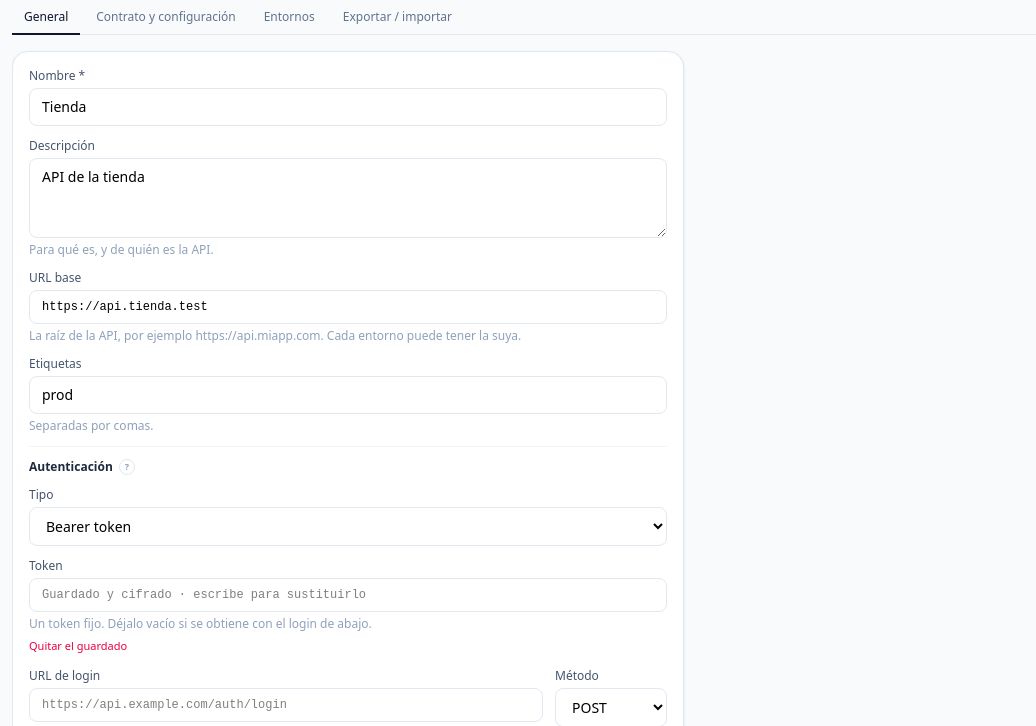
Scenario: ProjectGeneralPage › una autenticación incompleta no deja guardar
Check: the field showing "Tienda" is shown, box x1=29 y1=88 x2=667 y2=126
Select "API key" in the dropdown labelled "Tipo" at (348, 526), box x1=29 y1=507 x2=667 y2=546
(page scrolled)
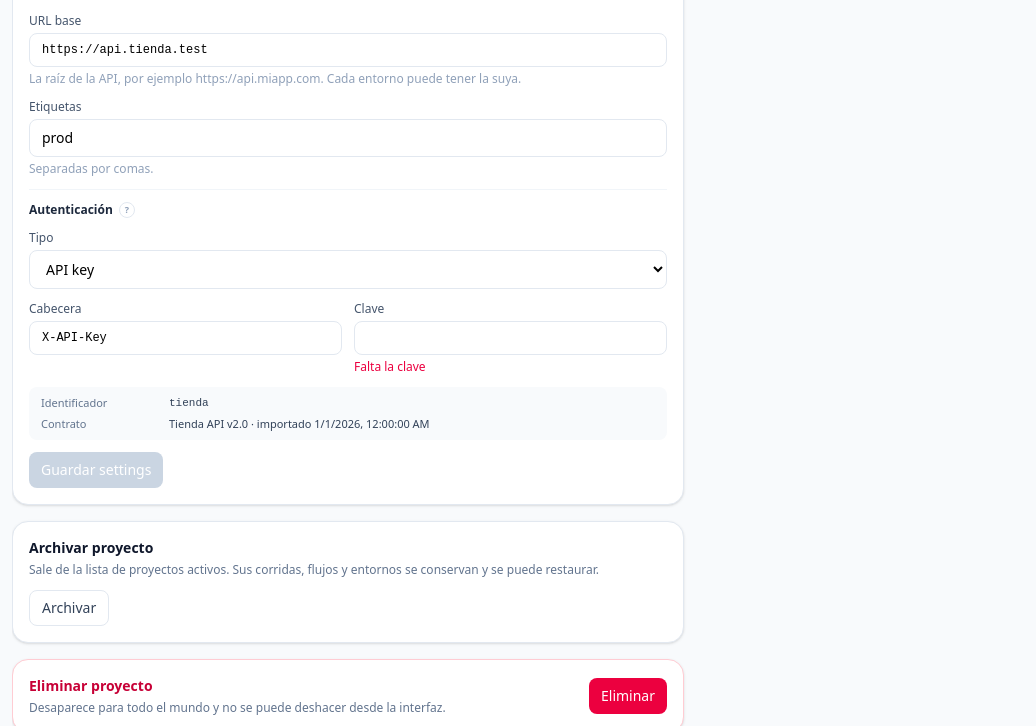
Check: the button "Guardar settings" is disabled, box x1=29 y1=452 x2=163 y2=488
Check: the text "Falta la clave" is shown, box x1=354 y1=358 x2=426 y2=375
